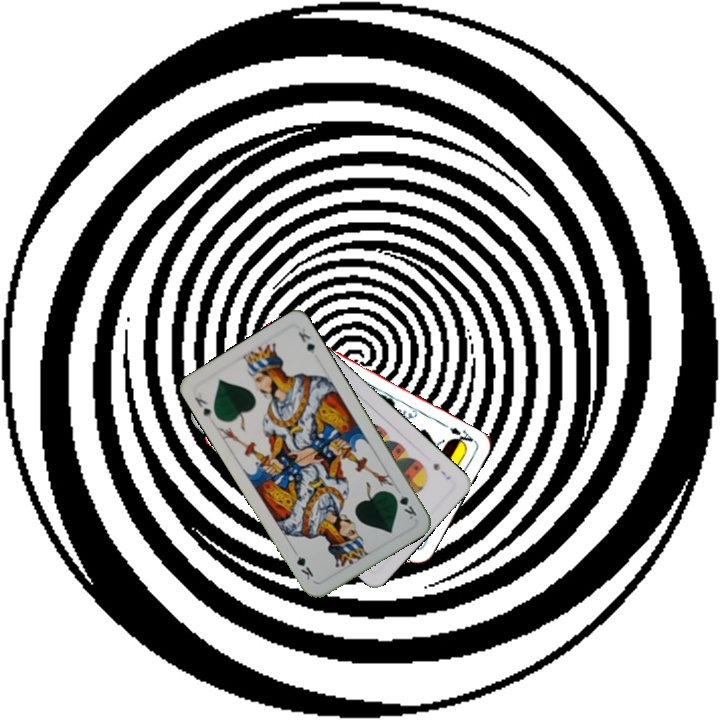EA: (445, 423, 478, 449)
GK: (388, 488, 419, 522), (190, 393, 214, 421)
S7: (429, 459, 453, 482)
